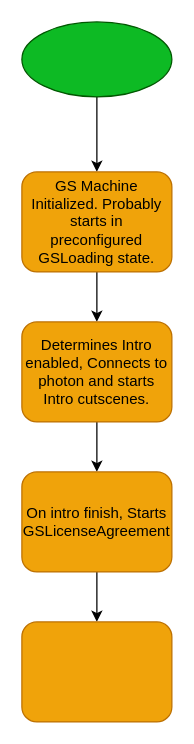
The diagram is 194 pixels wide and 744 high, and some of its shapes have lost their labels. Here are the shapes that lost their labels. From the top down, the box of each, then its label:
(21, 21, 172, 97): Game Launch
(21, 621, 172, 722): If License Agreement accepted, Moves to main menu
